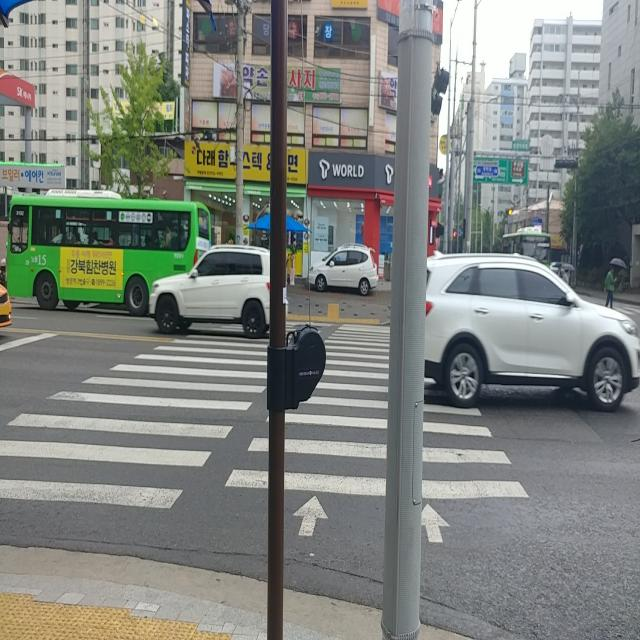횡단보도: (0, 319, 532, 548)
